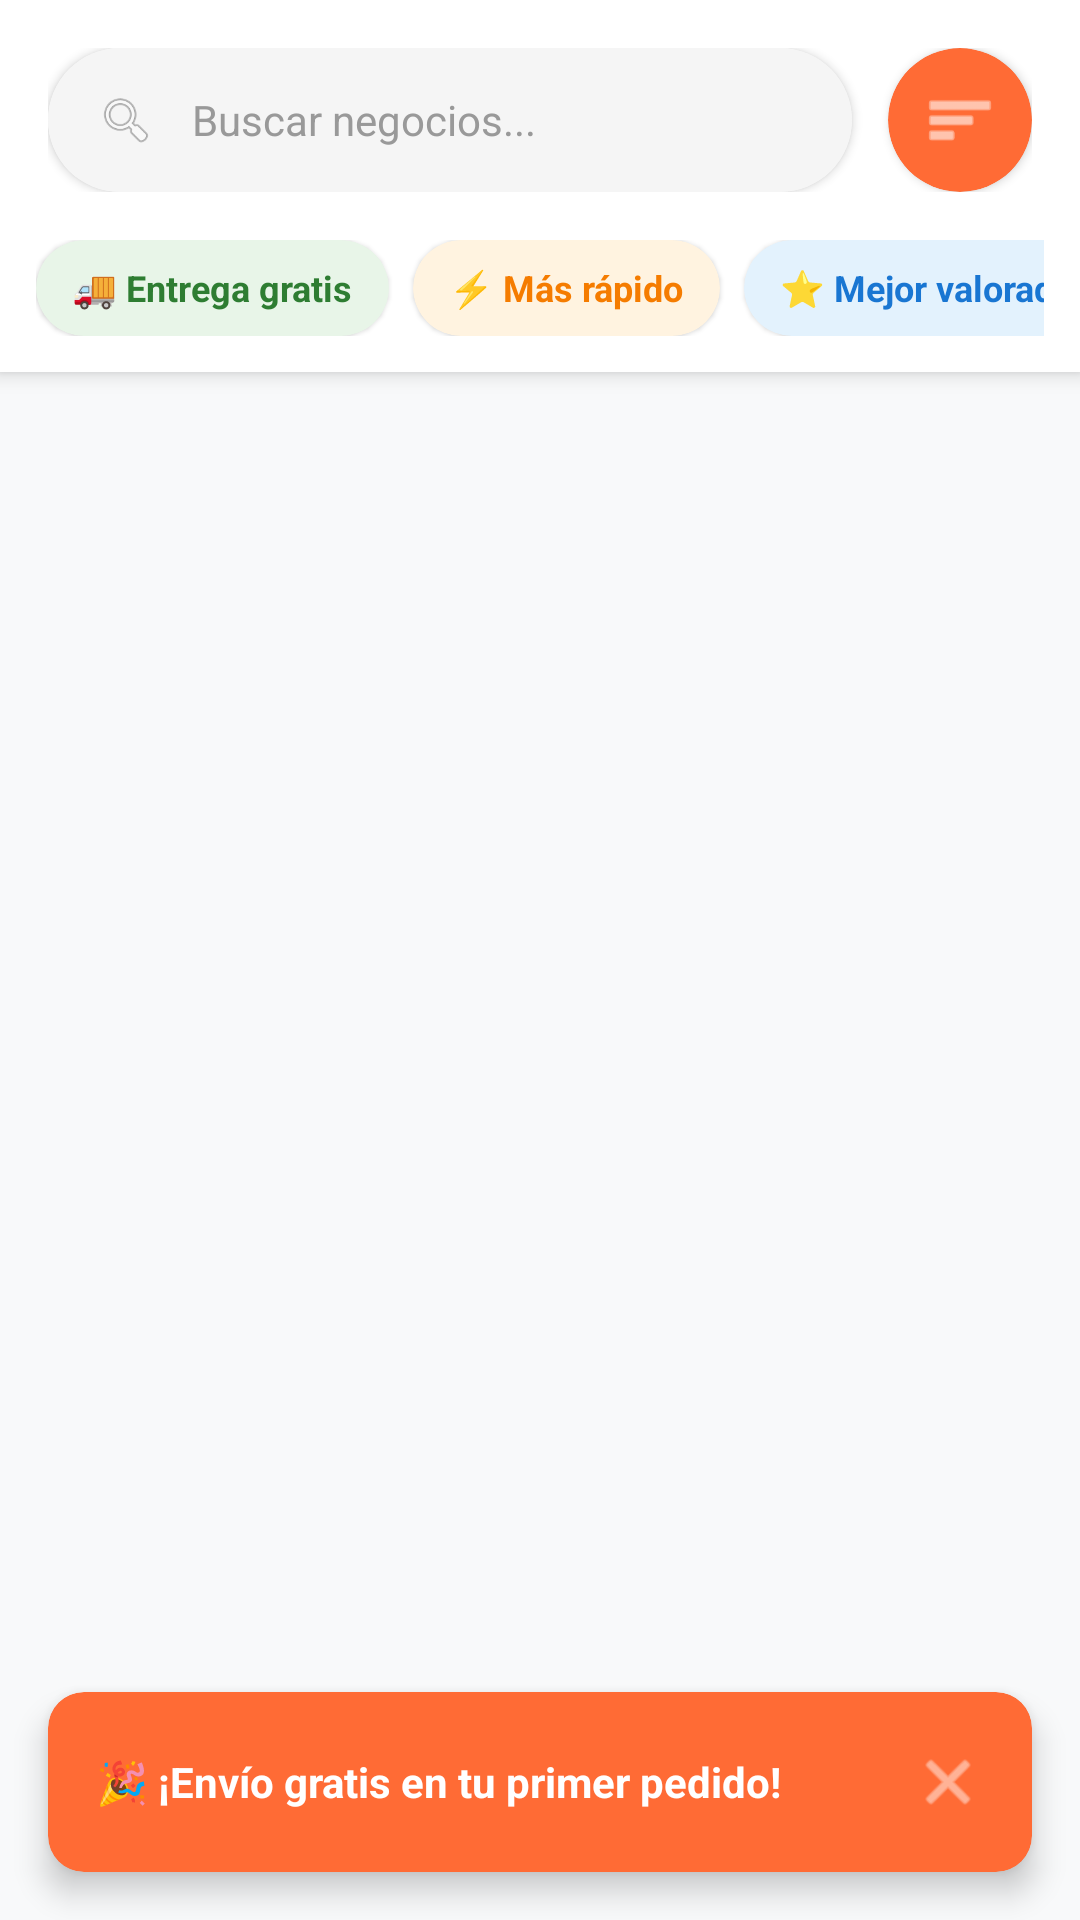

Named icons in this screenshot (1080×1920) and their centers, (x,y):
close clear cancel: (948,1782)
search: (126,120)
sort by size: (960,120)
